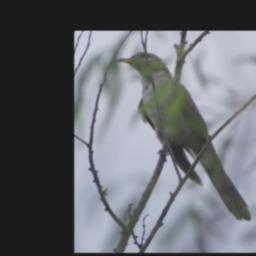Cuckoo: (117, 51, 256, 224)
